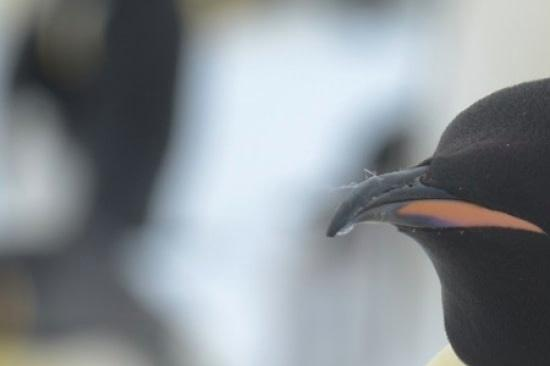Emperor Penguin: (280, 65, 550, 366)
